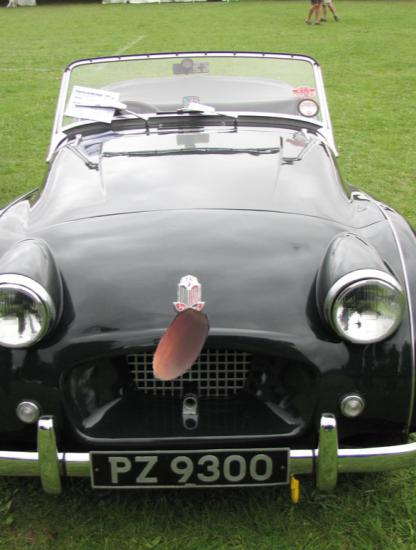Hazelnut: (139, 306, 220, 387)
